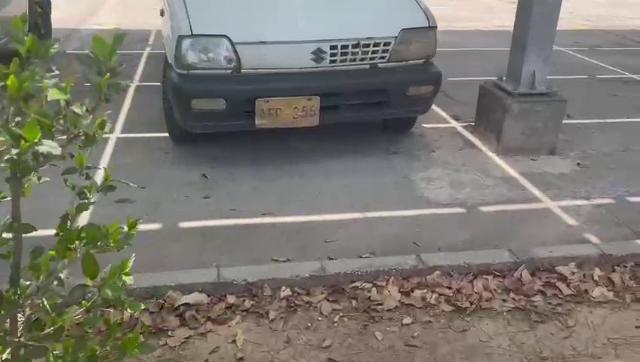plate: (256, 91, 322, 133)
